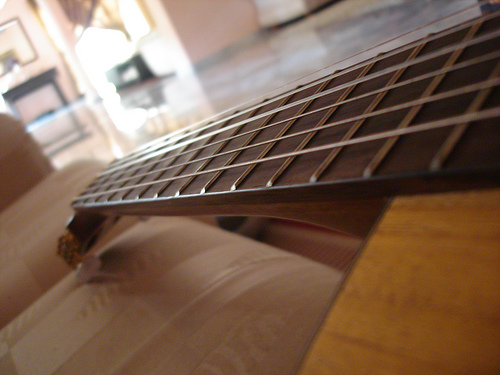guitar: (52, 9, 500, 282)
